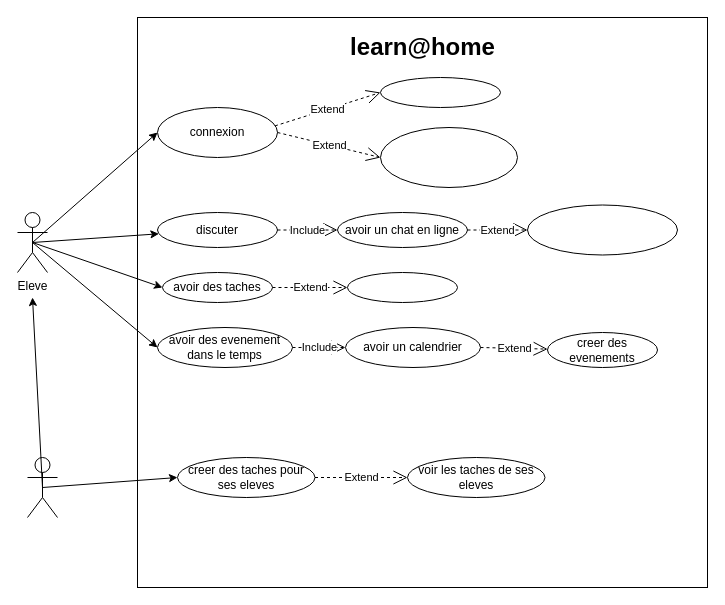
This 725x605 diagram has some shape labels left out. Here are the shapes that lost their labels. From the top down, the centre of each, then its label:
point (440, 92): creer un compte
point (449, 157): recuperer son mot de passe
point (602, 229): avoir un historique des conversation
point (402, 287): creer des taches
point (42, 487): Benevole
